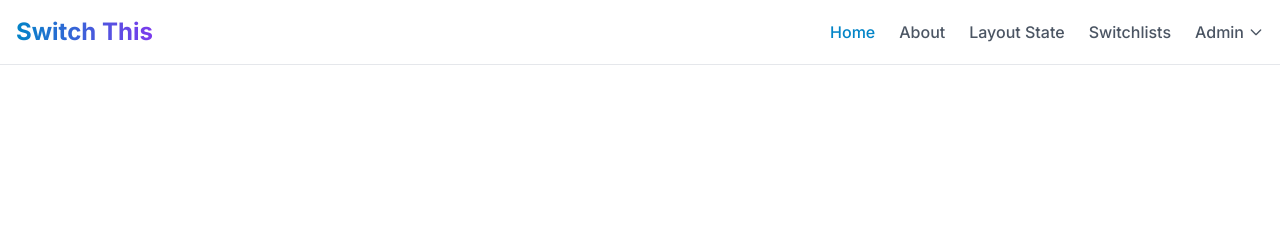
Test: Header › closes the dropdown when clicking outside
// Click admin button to open dropdown
Click the button "Admin" at (1230, 32), box left=1195, top=20, right=1264, bottom=44
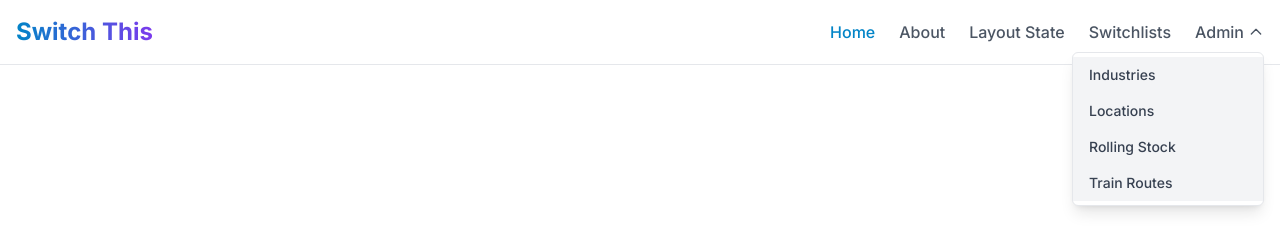
Expected: the link "Industries" is shown, left=1073, top=57, right=1263, bottom=93
// Click outside (on the document body)
Press the mouse on the element that starts with "Switch This" at (640, 32), box left=0, top=0, right=1279, bottom=65
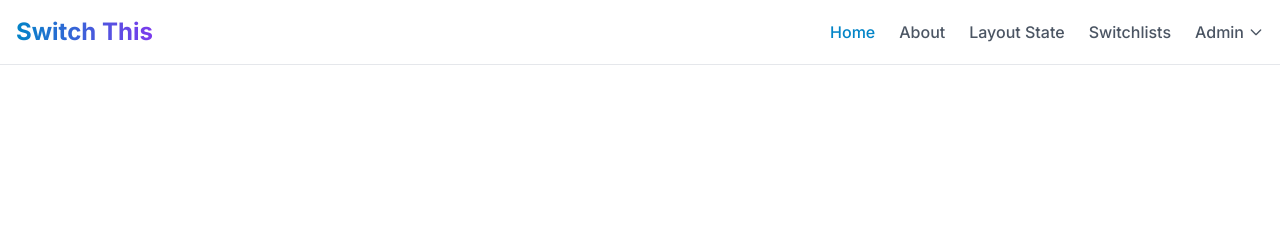
Expected: the link "Industries" is gone
